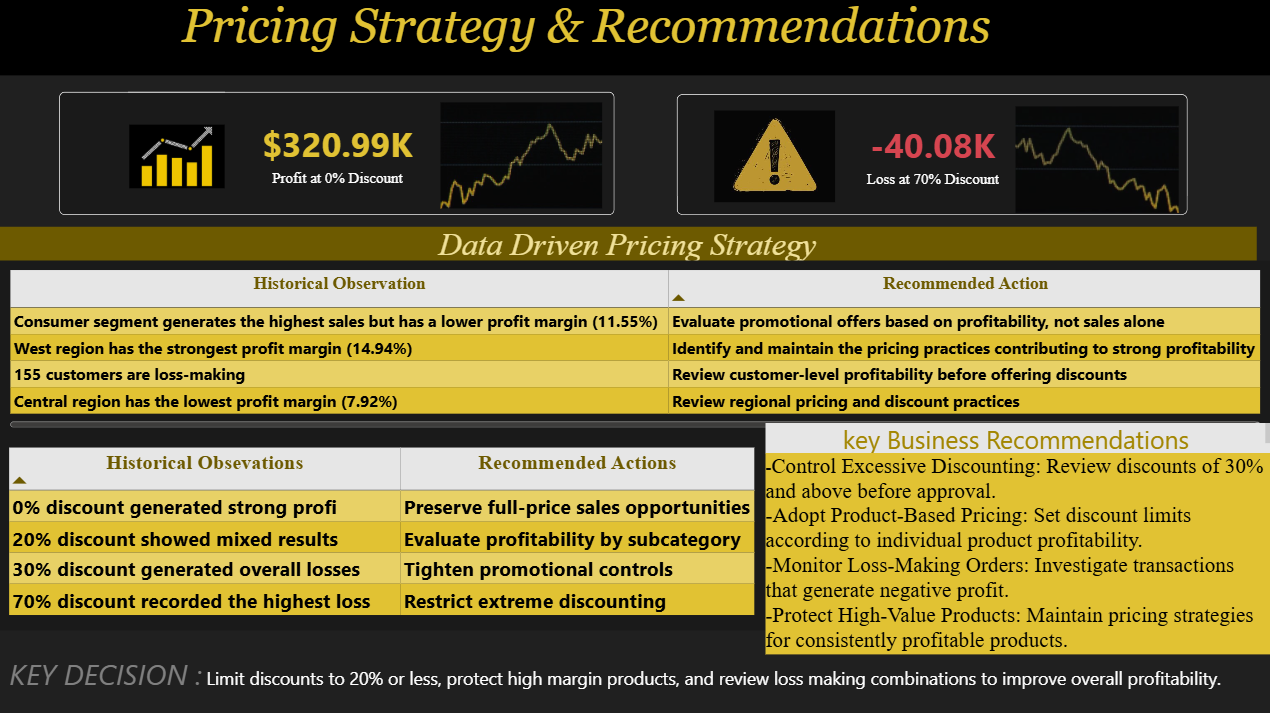

The dashboard page shown, as its layout file describes it:
{"tool":"powerbi","page":{"name":"Pricing Strategy","canvas":[1920,1080],"ordinal":4},"visuals":[{"type":"textbox","box":[0,0,1920.8,116.7],"z":0},{"type":"cardVisual","fields":{"Data":["superstore_cleaned.Loss at 70% Discount"]},"box":[1025,146.2,771.2,182.7],"z":1000},{"type":"cardVisual","fields":{"Data":["Sum(superstore_cleaned.Profit)"]},"box":[92.3,142.3,838.5,186.5],"z":2000},{"type":"image","box":[198.1,173.1,144.2,130.8],"z":3000},{"type":"image","box":[1536.5,159.6,246.2,167.3],"z":4000},{"type":"image","box":[667.3,151.9,244.2,169.2],"z":5000},{"type":"image","box":[1080.8,169.2,182.7,138.5],"z":5001},{"type":"tableEx","fields":{"Values":["Table.Historical Obsevations","Table.Recommended Actions"]},"box":[0,664.2,1158.5,290.6],"z":5002},{"type":"textbox","box":[0,346.2,1900,73.1],"z":5003},{"type":"tableEx","fields":{"Values":["Table (2).Historical Observation","Table (2).Recommended Action"]},"box":[1.9,396.2,1918.9,267.9],"z":5004},{"type":"textbox","box":[1158.5,641.5,762.3,45.3],"z":5005},{"type":"textbox","box":[1158.5,686.8,762.3,303.8],"z":5006},{"type":"textbox","box":[17.6,990.2,1882.4,72.5],"z":5007}]}

Visuals, with their boxes in screenshot pixels (x1, y1, x2, y2), scaled from the page's 1920x1080 canvas onto the 1270x713 screenshot:
textbox: BBox(0, 0, 1269, 77)
cardVisual - superstore_cleaned.Loss at 70% Discount: BBox(678, 97, 1188, 217)
cardVisual - Sum(superstore_cleaned.Profit): BBox(61, 94, 616, 217)
image: BBox(131, 114, 226, 201)
image: BBox(1016, 105, 1179, 216)
image: BBox(441, 100, 603, 212)
image: BBox(715, 112, 836, 203)
tableEx - Table.Historical Obsevations x Table.Recommended Actions: BBox(0, 438, 766, 630)
textbox: BBox(0, 229, 1257, 277)
tableEx - Table (2).Historical Observation x Table (2).Recommended Action: BBox(1, 262, 1269, 438)
textbox: BBox(766, 424, 1269, 453)
textbox: BBox(766, 453, 1269, 654)
textbox: BBox(12, 654, 1257, 702)
